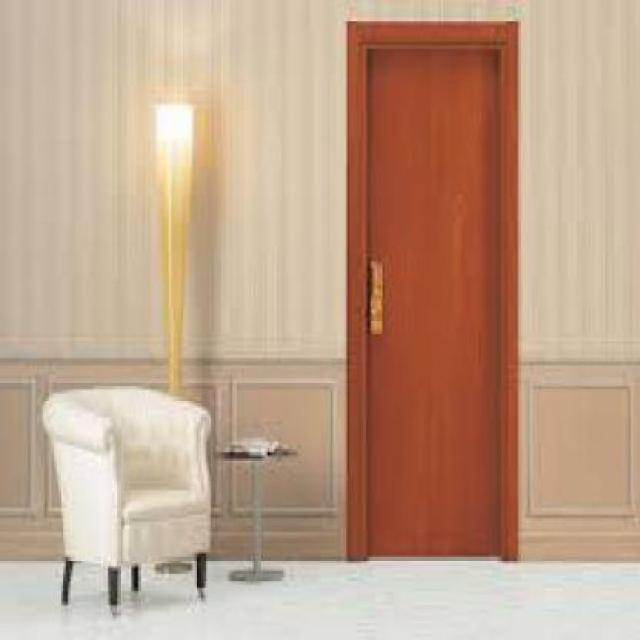door_handle: (364, 251, 392, 347)
